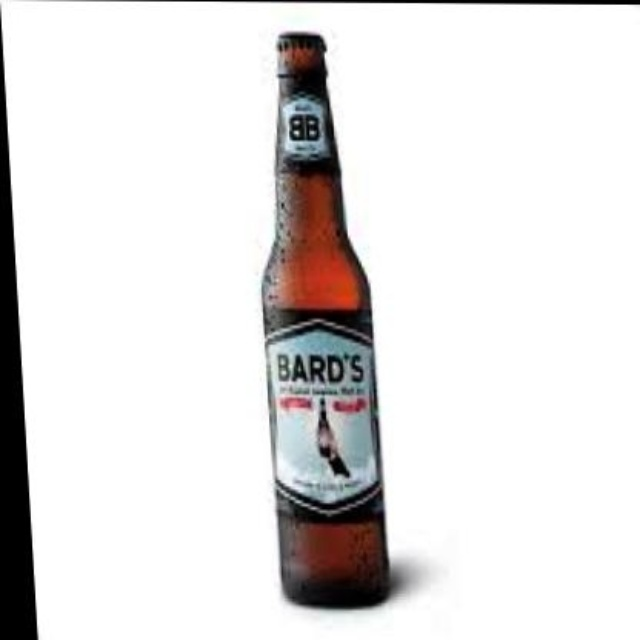trash: (263, 34, 388, 605)
